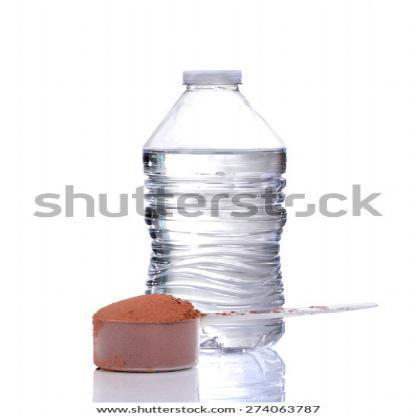bottle: (141, 67, 289, 353)
